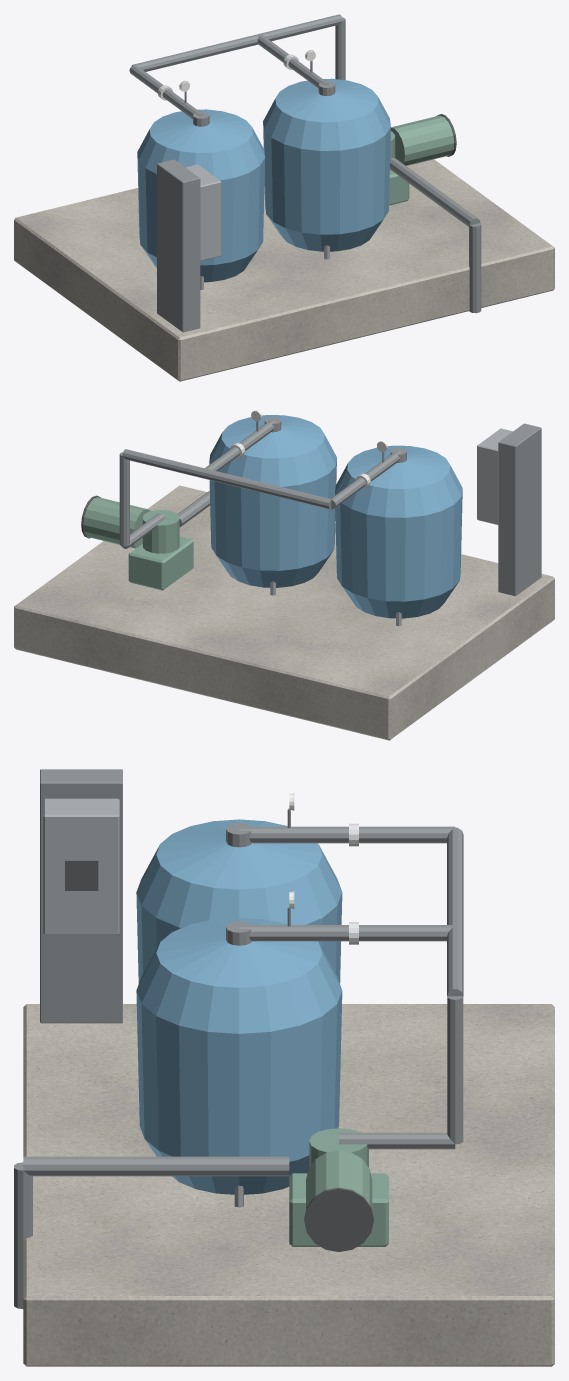
File: filters.glb
3 renders of one model, top to bottom at view 1: azimuth 30°, elevation 25°; view 2: azimuth 150°, elevation 25°; view 3: azimuth 270°, elevation 25°, orthographic. The views are drawn at different scales.
Parts seen in each view (by area): view 1: filters_concrete, filters_tank, filters_steel, filters_pump, filters_metal; view 2: filters_concrete, filters_tank, filters_steel, filters_pump, filters_metal, filters_chrome; view 3: filters_concrete, filters_tank, filters_steel, filters_metal, filters_pump, filters_dark.
Boxes of the visible parts, x1,y1,x2,y2 form: filters_concrete: (14,159,554,381); filters_tank: (137,78,390,282); filters_steel: (129,14,481,332); filters_pump: (389,115,454,205); filters_metal: (186,164,221,260); filters_concrete: (14,485,554,740); filters_tank: (209,415,462,618); filters_steel: (119,417,541,626); filters_pump: (83,497,193,590); filters_metal: (477,428,512,524); filters_chrome: (229,410,386,488); filters_concrete: (23,1004,554,1366); filters_tank: (136,819,342,1194); filters_steel: (14,769,463,1308); filters_metal: (43,798,119,934); filters_pump: (289,1128,388,1246); filters_dark: (65,860,373,1251).
Size of the model in its own units: 4.2 by 2.32 by 3.26.
8 materials, 1 textured.
